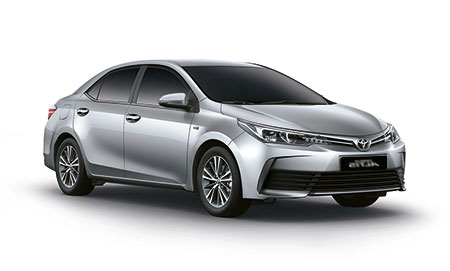sedan: (42, 57, 410, 219)
